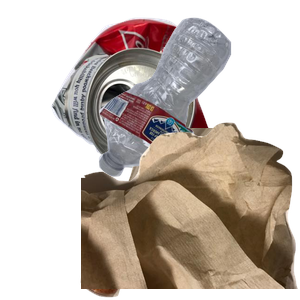glass: (78, 128, 298, 300)
metal: (48, 15, 251, 175)
plastic: (96, 15, 300, 184)
trash: (81, 120, 300, 300)
